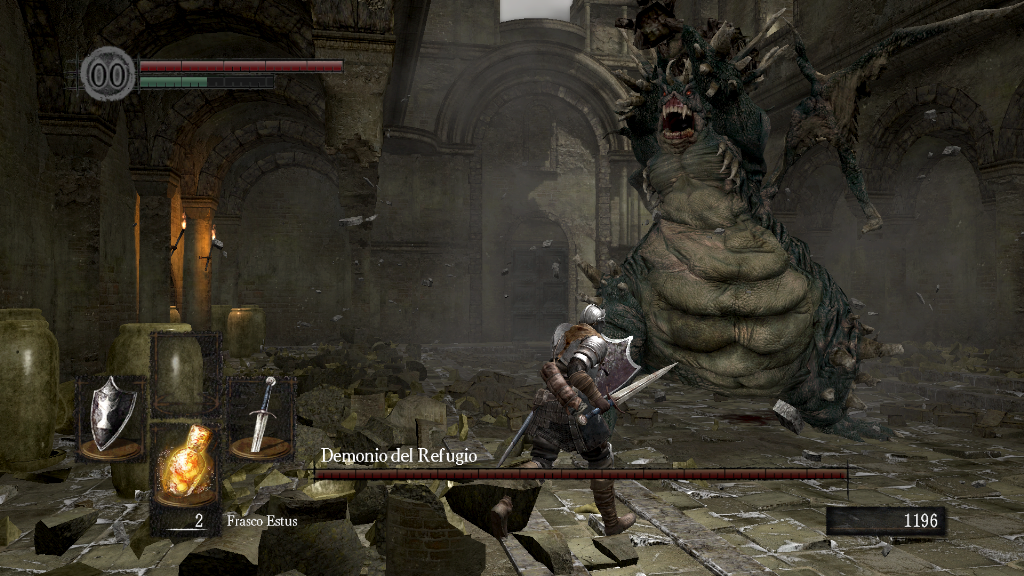asylumDemon: (582, 1, 888, 432)
bossHP: (314, 469, 847, 479)
health: (138, 58, 343, 71)
humanity: (80, 45, 136, 102)
player: (498, 301, 679, 538)
souls: (825, 506, 945, 536)
stamina: (138, 74, 274, 88)
